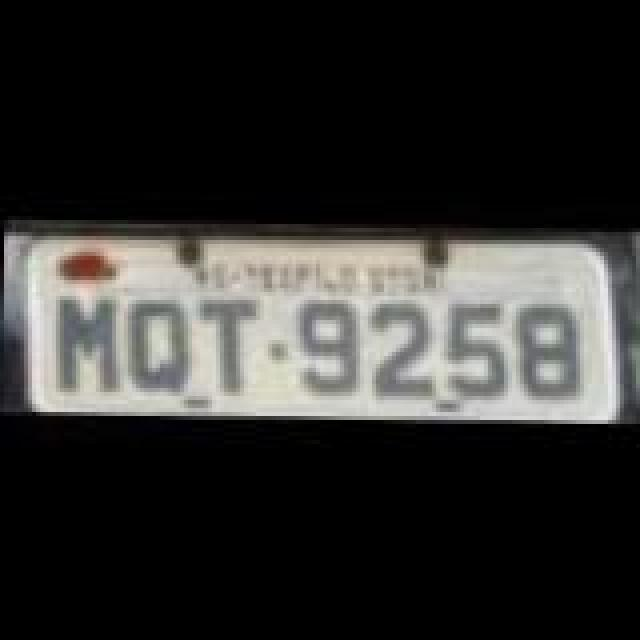2: (358, 298, 438, 402)
5: (442, 296, 510, 404)
8: (510, 302, 586, 402)
9: (294, 292, 362, 396)
M: (48, 294, 124, 402)
Q: (122, 296, 194, 396)
T: (186, 298, 258, 398)
